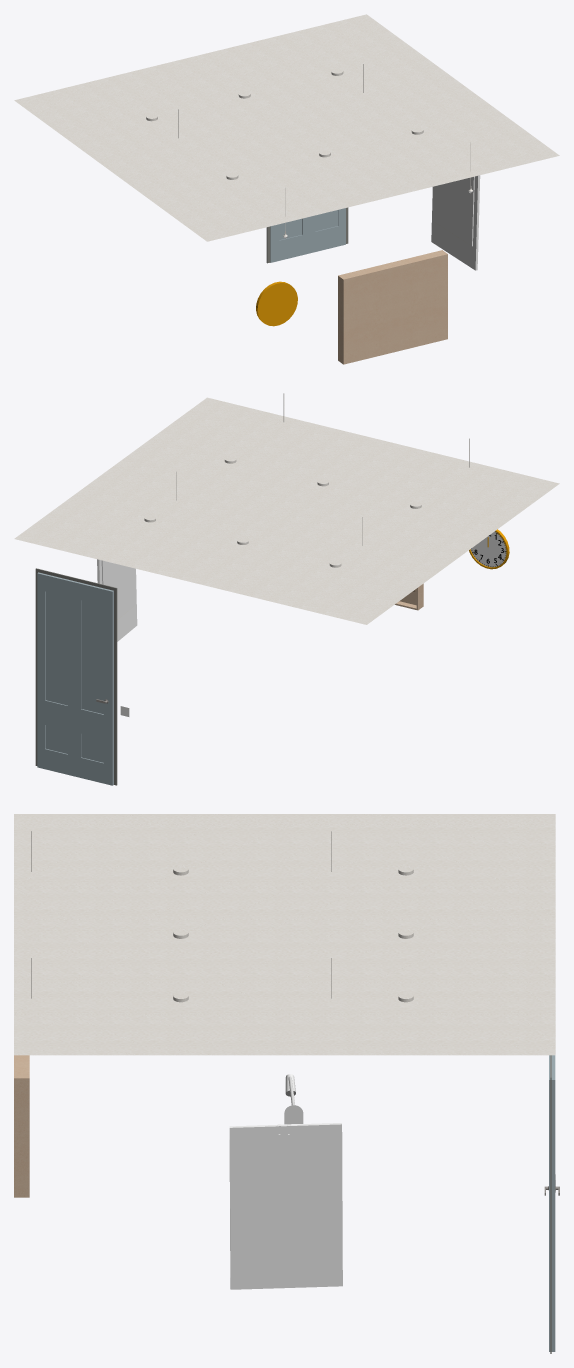
The model's file is break-room(interactive)_ver-0.glb.
3 renders of one model, top to bottom at view 1: azimuth 30°, elevation 25°; view 2: azimuth 150°, elevation 25°; view 3: azimuth 270°, elevation 25°, orthographic. The views are drawn at different scales.
Parts seen in each view (by area): view 1: ceiling, wood_decoration, door, interactive_whiteboard, mobile_whiteboard, clock_face; view 2: ceiling, door, interactive_whiteboard, clock_face, mobile_whiteboard; view 3: ceiling, mobile_whiteboard, wood_decoration, door.
Part boxes in pixels (box(x1,y1,x2,y2)): ceiling: box(14, 14, 559, 241); wood_decoration: box(338, 250, 447, 364); door: box(266, 207, 348, 263); interactive_whiteboard: box(433, 176, 474, 246); mobile_whiteboard: box(431, 175, 480, 270); clock_face: box(256, 281, 297, 326); ceiling: box(14, 397, 559, 624); door: box(35, 568, 117, 785); interactive_whiteboard: box(101, 560, 135, 619); clock_face: box(469, 529, 509, 569); mobile_whiteboard: box(97, 559, 137, 641); ceiling: box(14, 814, 555, 1055); mobile_whiteboard: box(229, 1123, 342, 1289); wood_decoration: box(14, 1055, 29, 1197); door: box(544, 1055, 559, 1353).
Size of the model in its own units: 183 by 125 by 175.
Materials: 22 (10 with a texture image).
